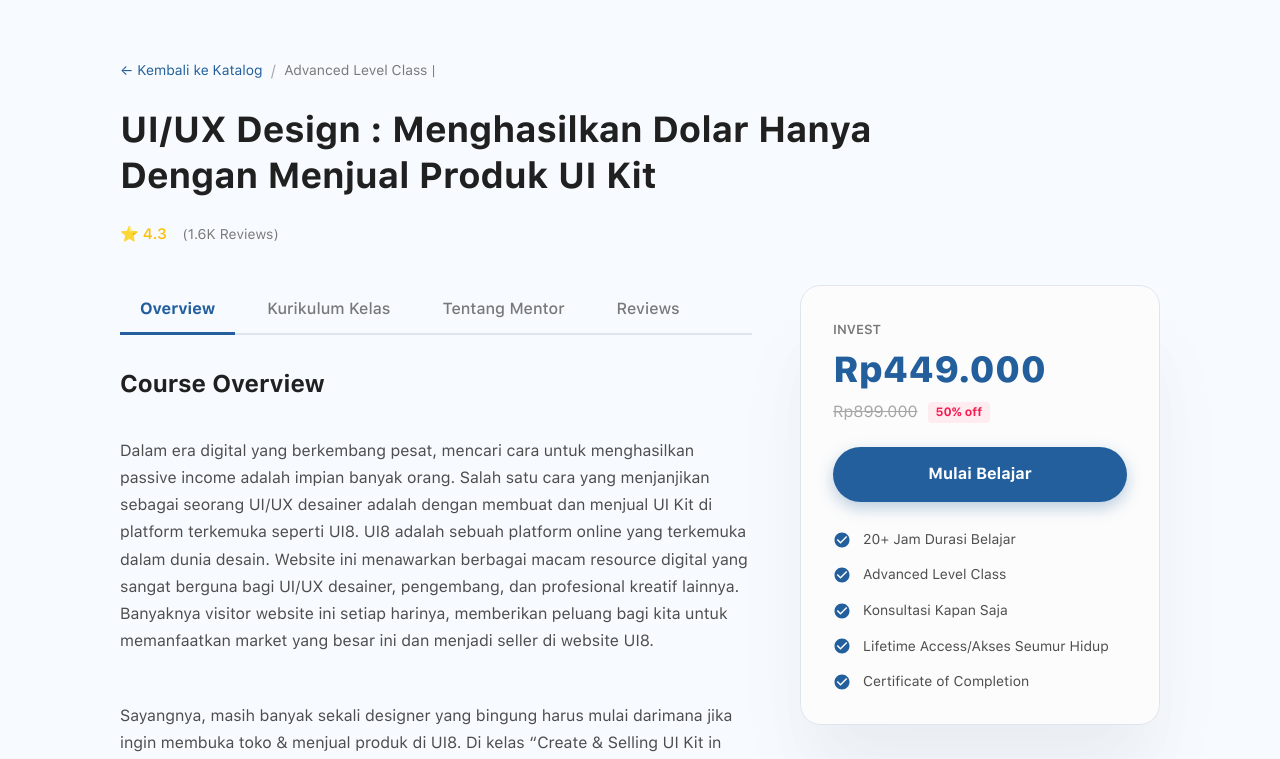
Scenario: CourseDetailsPage › switches to the Kurikulum Kelas tab and shows Chapter 1
Click the button "Kurikulum Kelas": {"x": 329, "y": 310} [247,285,410,335]
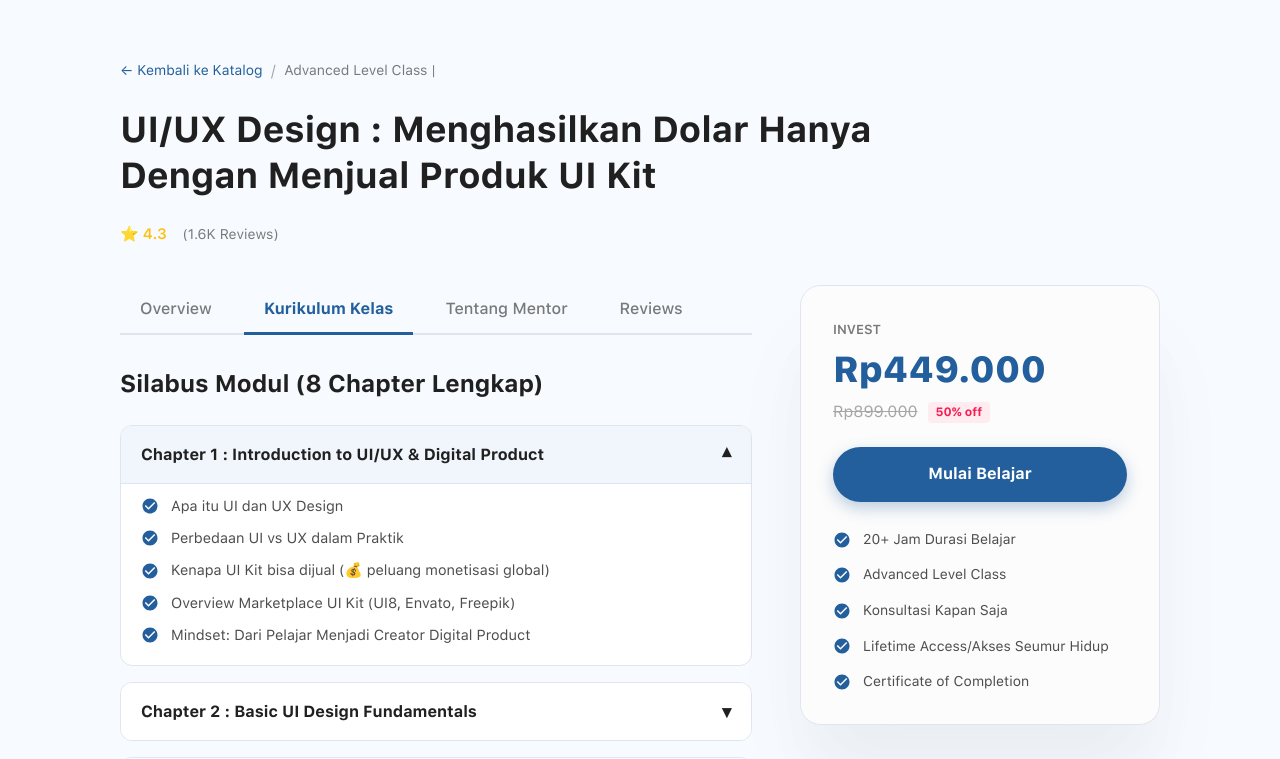
Now the text "Chapter 1 : Introduction to UI/UX & Digital Product" is shown, box [141,445,544,464]
